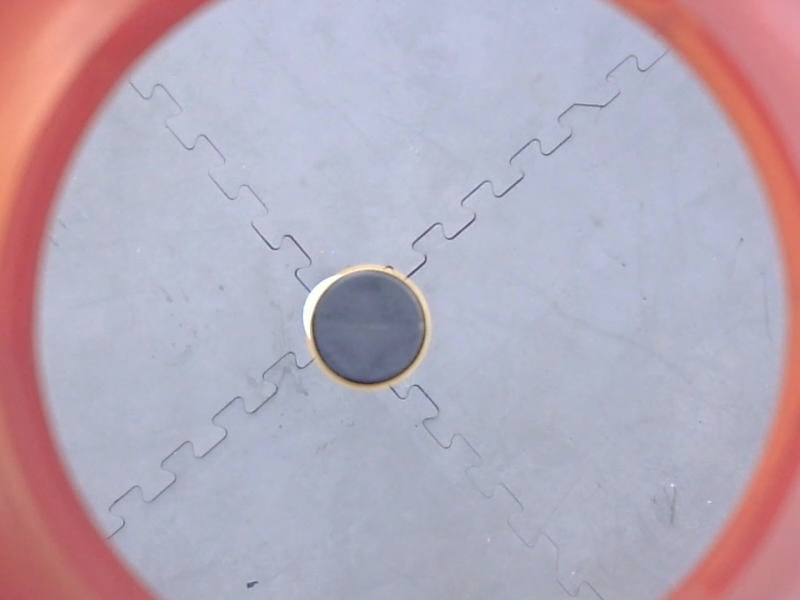tip: (299, 257, 439, 398)
